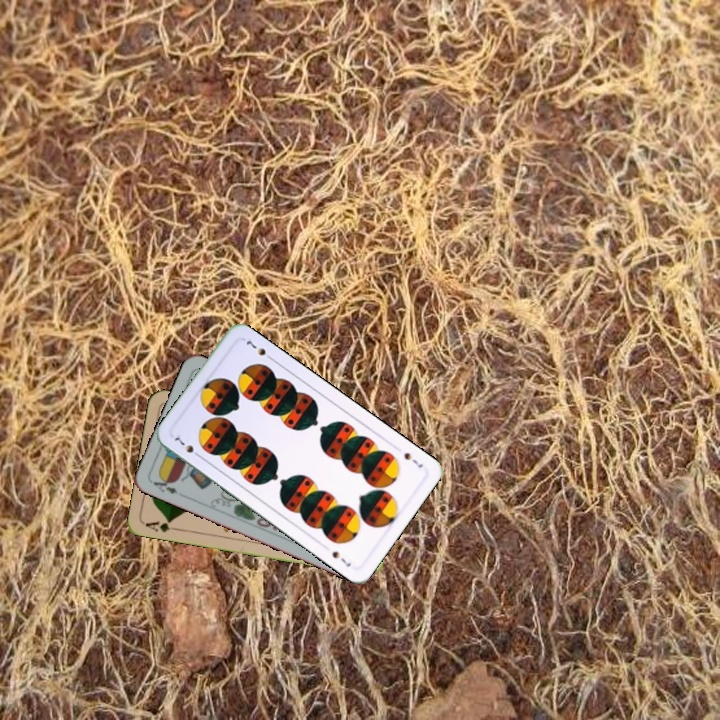EA: (149, 473, 181, 497)
GA: (141, 516, 182, 535)
S7: (170, 430, 204, 461), (400, 448, 425, 470)
